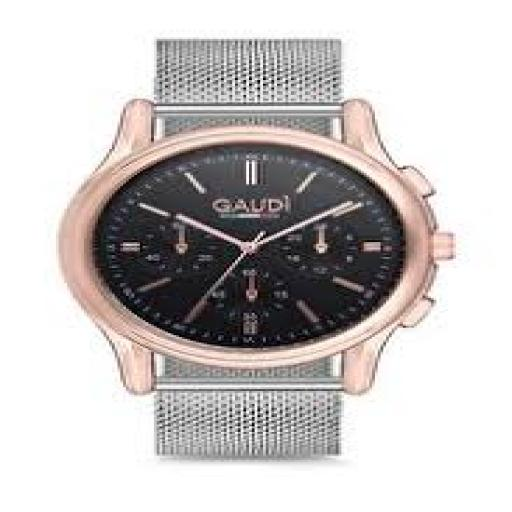KolSaati: (43, 21, 469, 466)
